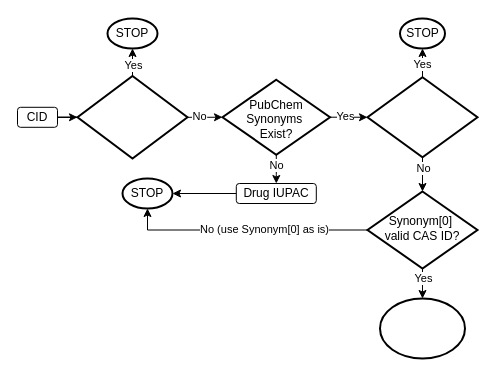
Image size: 496x376. Some labels were removed from this diagram. Each missing label, with the centre of its shape:
"ChemSpider common name?" goes at (132,116).
"Return name from common chemistry" goes at (422,328).
"Synonym with natural text?" goes at (422,117).
